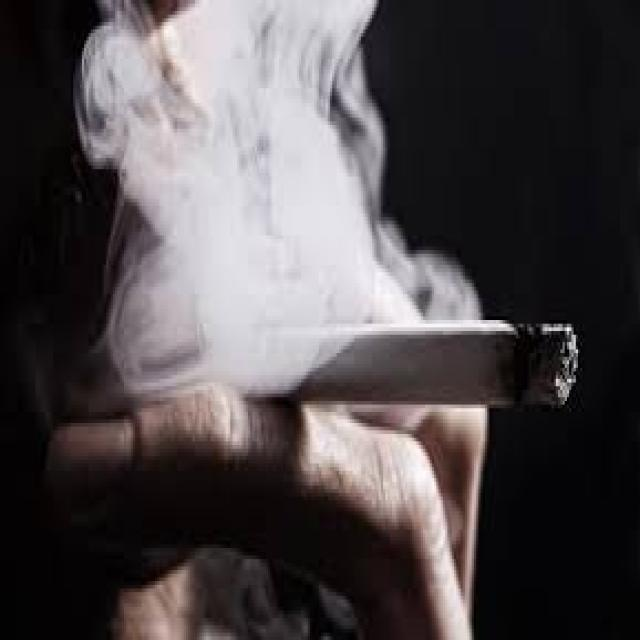rokok: (201, 313, 584, 419)
